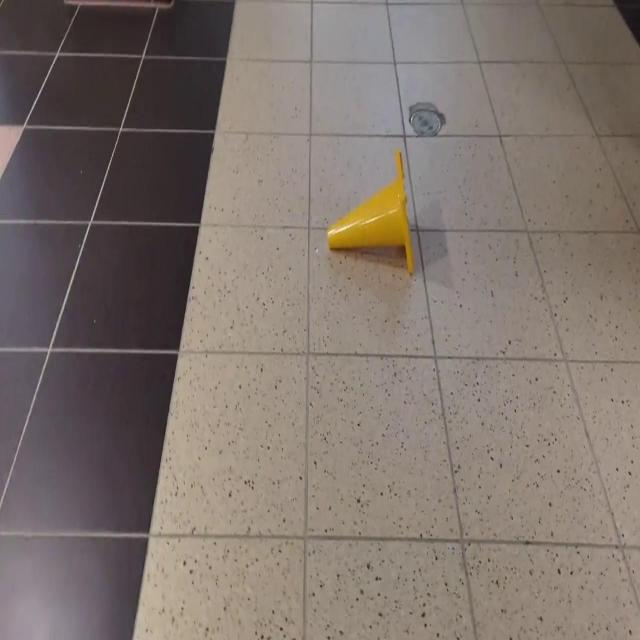frc_cone: (327, 149, 415, 275)
